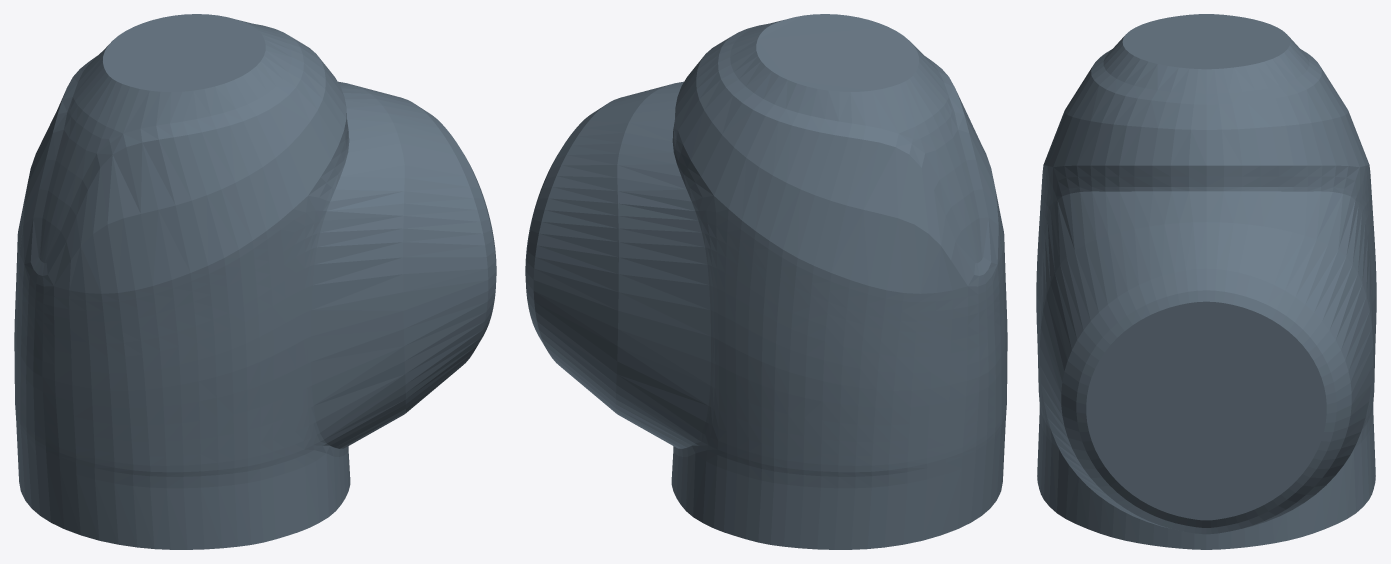
3 views of the same model, side by side, from view 1: azimuth 30°, elevation 25°; view 2: azimuth 150°, elevation 25°; view 3: azimuth 270°, elevation 25° (orthographic).
Visible parts, largest first — view 1: MF0617_2_0; view 2: MF0617_2_0; view 3: MF0617_2_0.
Part boxes in pixels (x1,y1,x2,y2): MF0617_2_0: (14, 14, 496, 549); MF0617_2_0: (525, 14, 1007, 549); MF0617_2_0: (1036, 14, 1376, 549).
Bounding box in the file's own units: 213 × 152 × 219.
